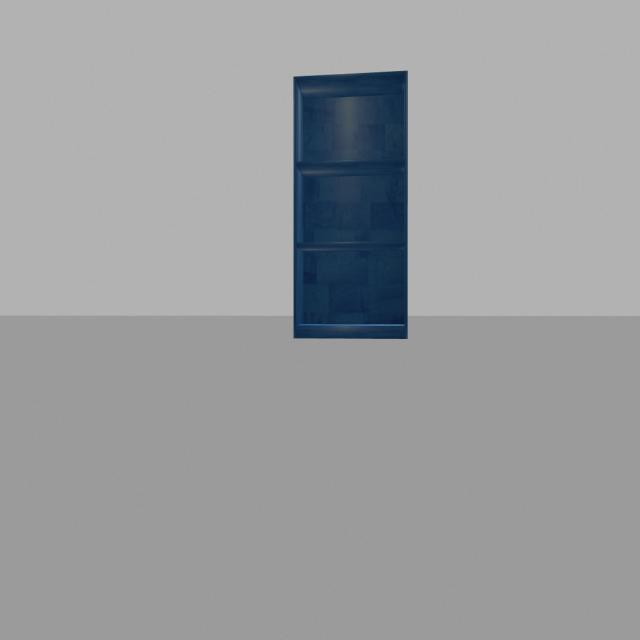shelf: (288, 66, 417, 350)
